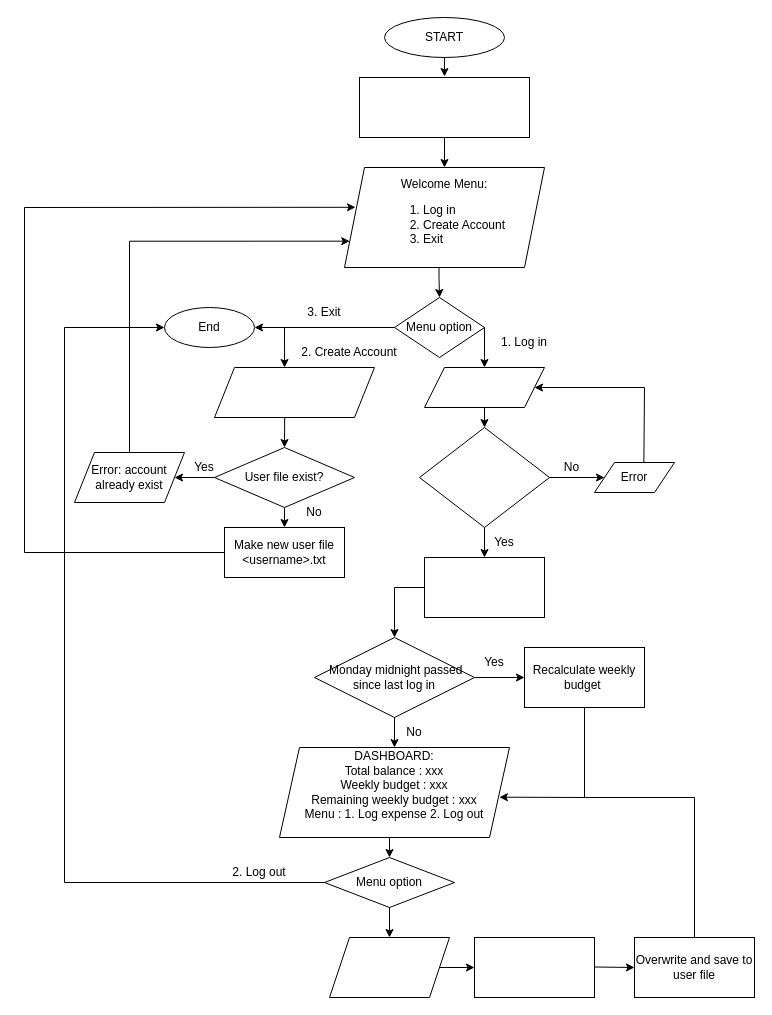
Image size: 772x1015. Some labels were removed from this diagram. The centre of each missing label's shape, as x and y in pixels:
Check and create directory using File.mkdirs(): point 444,107
Deduct balance and calculate remaining weekly budget: point 534,967
Enter amount spent: point 389,967
Enter username & password: point 484,387
Enter username, password, initial balance: point 294,392
File exist & password matches: point 484,477
Load user data from <username>.txt: point 484,587
